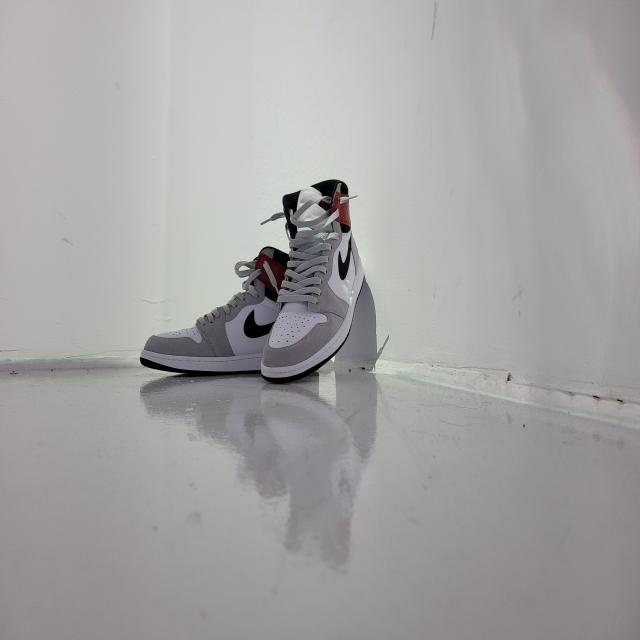shoe: (120, 240, 307, 380), (254, 170, 368, 388)
